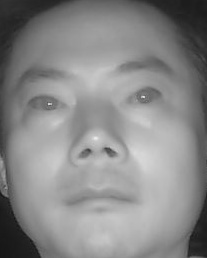eye: (24, 91, 73, 120), (123, 83, 165, 110)
mouth: (64, 176, 137, 219)
